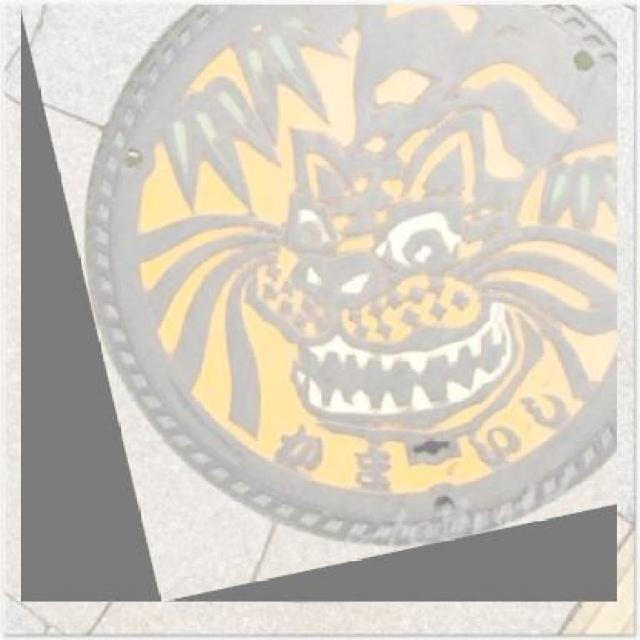Manhole: (20, 5, 617, 602)
